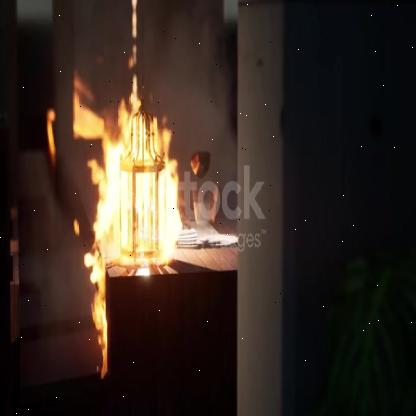fire: (66, 67, 189, 377)
smoke: (15, 0, 238, 368)
